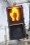stop: (4, 5, 25, 25)
